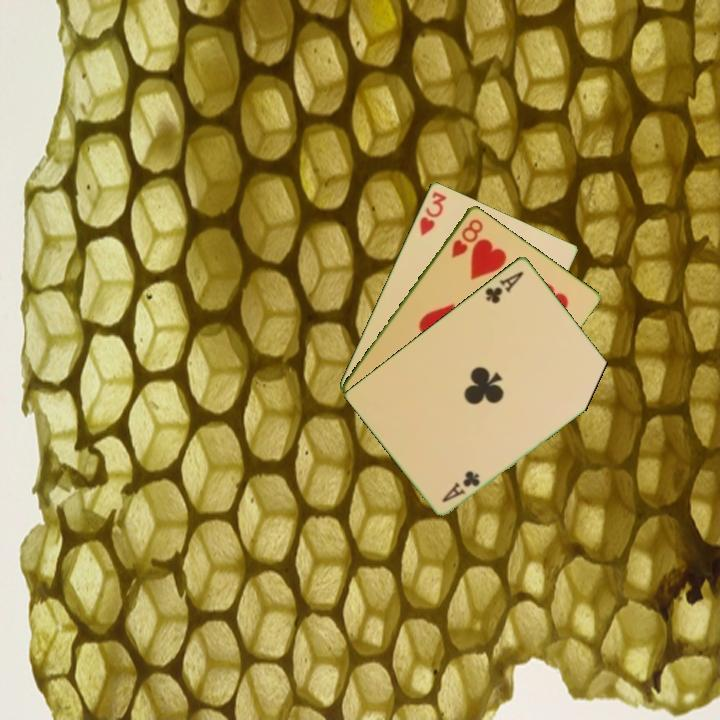3h: (416, 188, 449, 238)
8h: (448, 215, 486, 260)
Ac: (482, 267, 527, 306), (438, 467, 483, 505)
